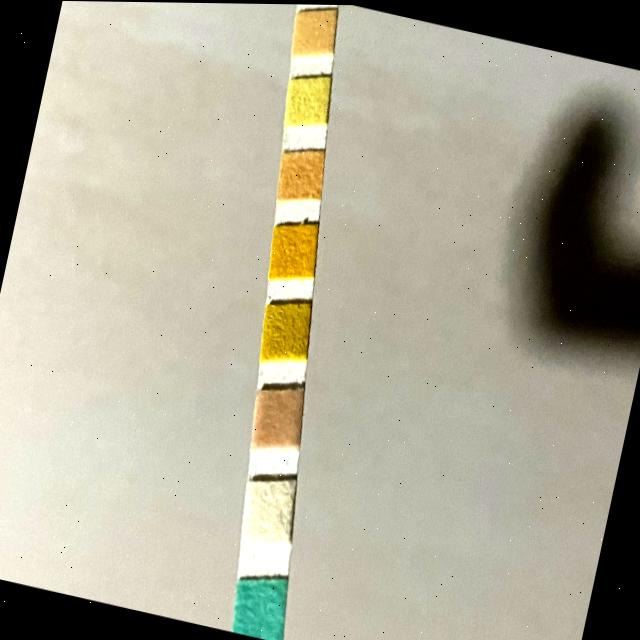Bilirubin: (242, 480, 295, 545)
Blood: (269, 224, 317, 277)
Glucose: (231, 577, 285, 640)
Ketone: (252, 388, 302, 450)
Protein: (284, 76, 329, 124)
SpGravity: (263, 303, 310, 358)
Urobilinogen: (291, 9, 336, 56)
pH: (277, 149, 323, 200)
